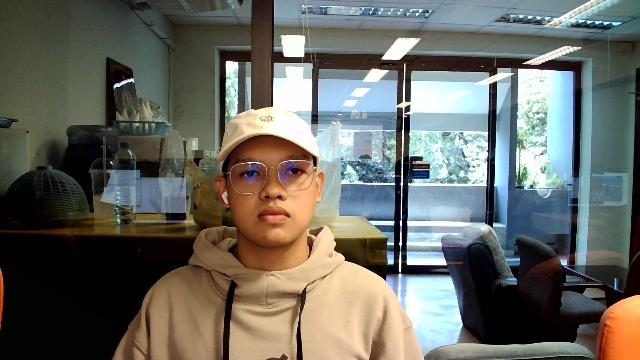fokus: (217, 107, 325, 250)
